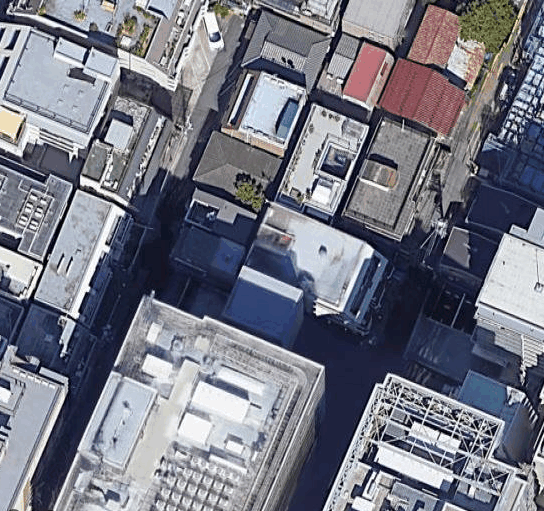facility: (31, 187, 122, 321), (76, 89, 159, 200), (34, 1, 195, 54), (1, 169, 74, 257), (12, 303, 82, 370), (172, 226, 247, 281), (182, 185, 257, 240)
flatroof: (64, 309, 295, 511), (323, 379, 544, 511), (243, 202, 370, 308), (214, 262, 306, 347), (448, 367, 534, 436), (479, 234, 542, 327), (239, 68, 310, 144), (338, 1, 406, 43)
rooftop: (1, 24, 121, 136), (276, 100, 371, 219), (343, 123, 438, 242)
